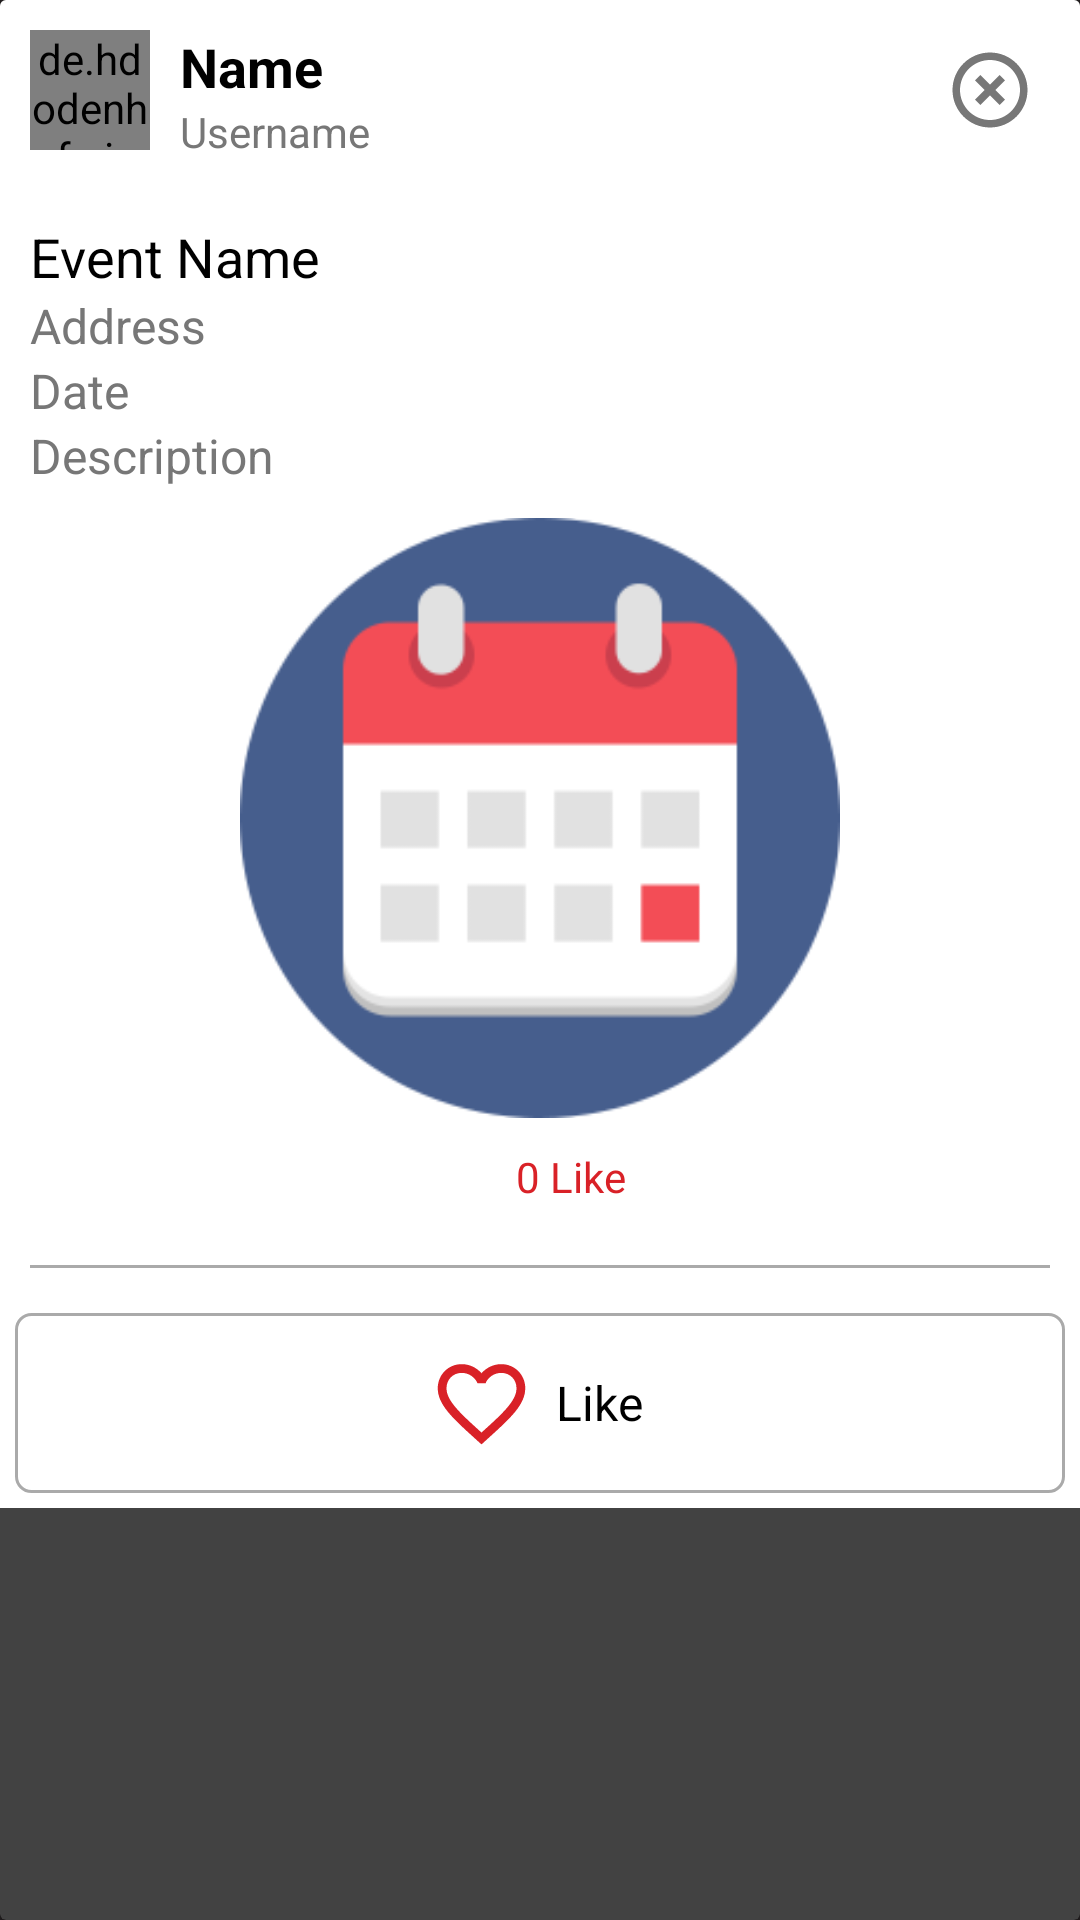

Where icons sit on this 1080px×1920px app screen, as (x1, y1, x2, y2):
favorite border: (437, 1364, 526, 1445)
highlight off: (952, 52, 1028, 128)
